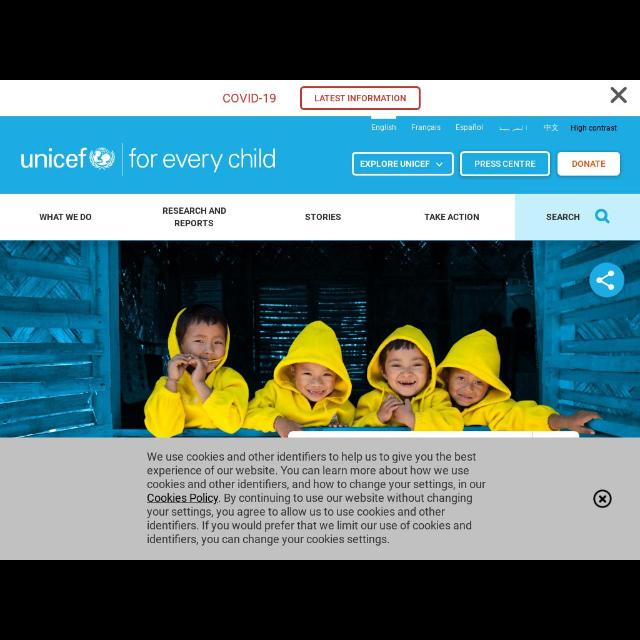button: (590, 264, 622, 298)
icon: (608, 86, 630, 104), (596, 270, 614, 292), (592, 489, 612, 508), (594, 207, 610, 226), (436, 158, 444, 172)
iframe: (3, 438, 639, 556), (4, 84, 638, 114)
image: (1, 243, 639, 439), (15, 140, 117, 176)
link: (147, 494, 219, 506)
spinner: (352, 152, 454, 176)
text: (146, 450, 490, 546), (128, 146, 280, 174), (163, 205, 227, 227), (312, 90, 406, 104), (359, 158, 429, 168), (424, 212, 481, 224), (38, 211, 94, 223), (222, 92, 276, 104), (472, 158, 536, 168), (302, 211, 343, 223), (545, 210, 581, 222), (498, 123, 530, 135), (570, 124, 618, 132), (571, 158, 607, 168), (454, 122, 486, 132), (372, 121, 396, 132), (410, 122, 442, 130), (544, 120, 558, 134)
textbutton: (517, 192, 639, 240), (301, 86, 421, 110), (460, 150, 550, 176), (558, 152, 620, 175)
